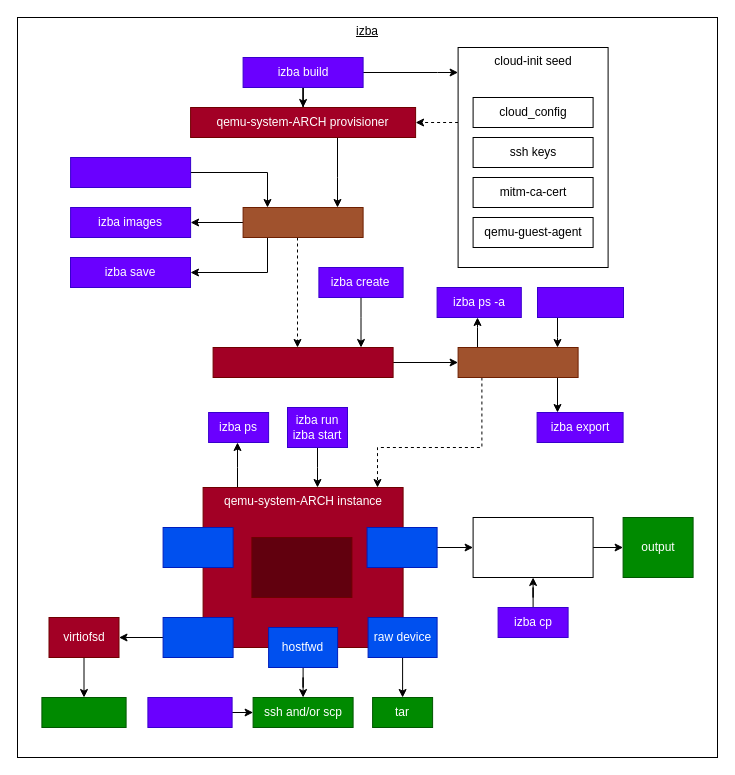
Some shapes in this 735 by 775 pixel diagram are drawn without their labels. Here are the shapes that lost their labels. From the top down, the centre of each, then its label:
[130,172]: izba load
[302,222]: golden image
[580,302]: izba import
[302,362]: qemu-img golden to current
[517,362]: current image
[197,547]: 9p
[301,567]: docker podman k8s
[401,547]: qmp
[532,547]: snapshot and/or dissect
[197,637]: virtiofs
[83,712]: host folder
[189,712]: izba exec
